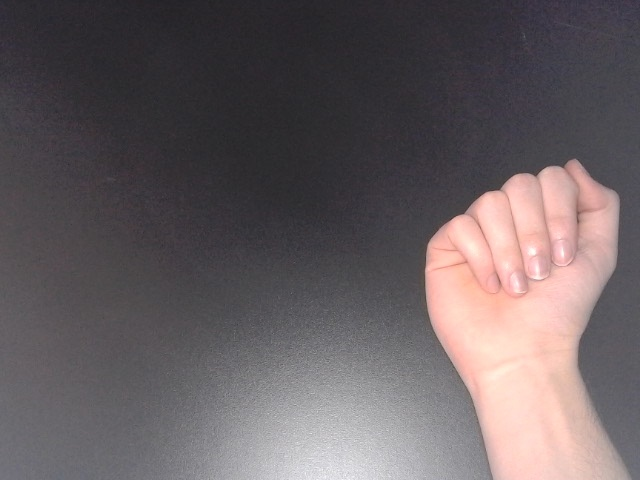a: (419, 154, 624, 384)
